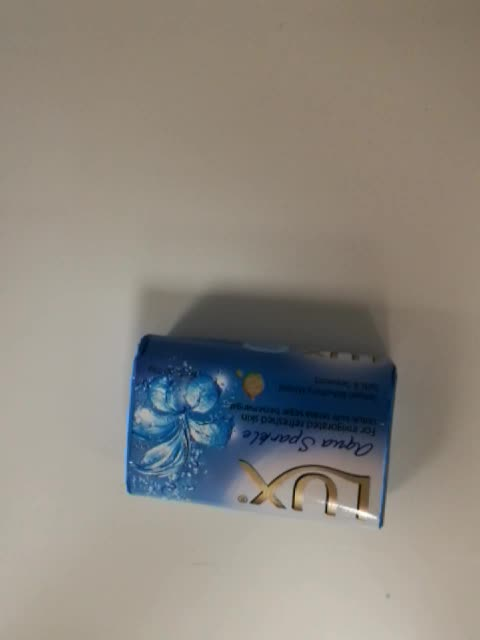soap: (123, 333, 401, 534)
